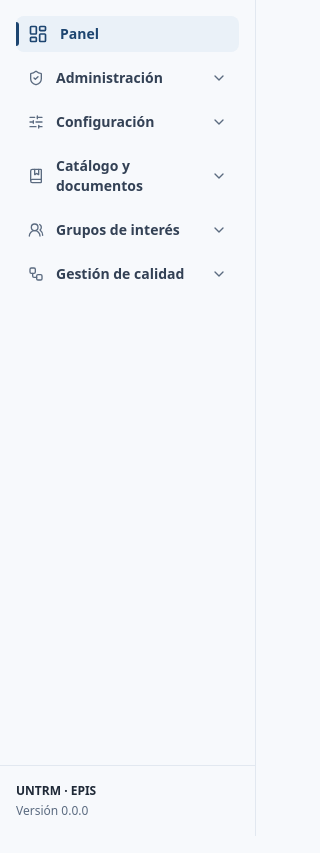
Test case: Sidebar grouped navigation (HU-082, T-082-12) › remembers the open groups across mounts
This screenshot has width=320, height=853.
Later steps or results of the test are not shown.
Click the button "Configuración".
click(128, 122)  # box [16,104,239,140]
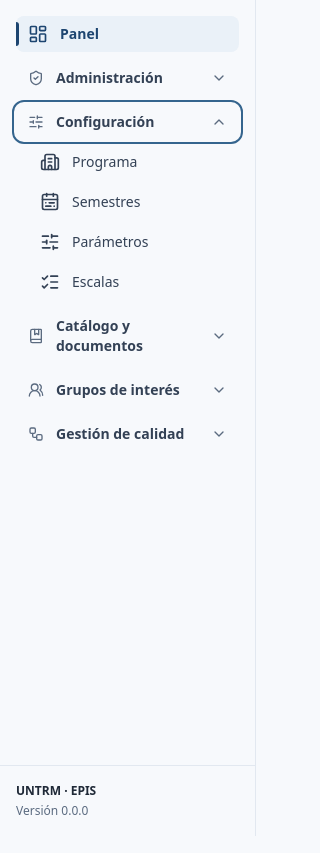
Result: the button "Configuración" is expanded at [16,104,239,140]
